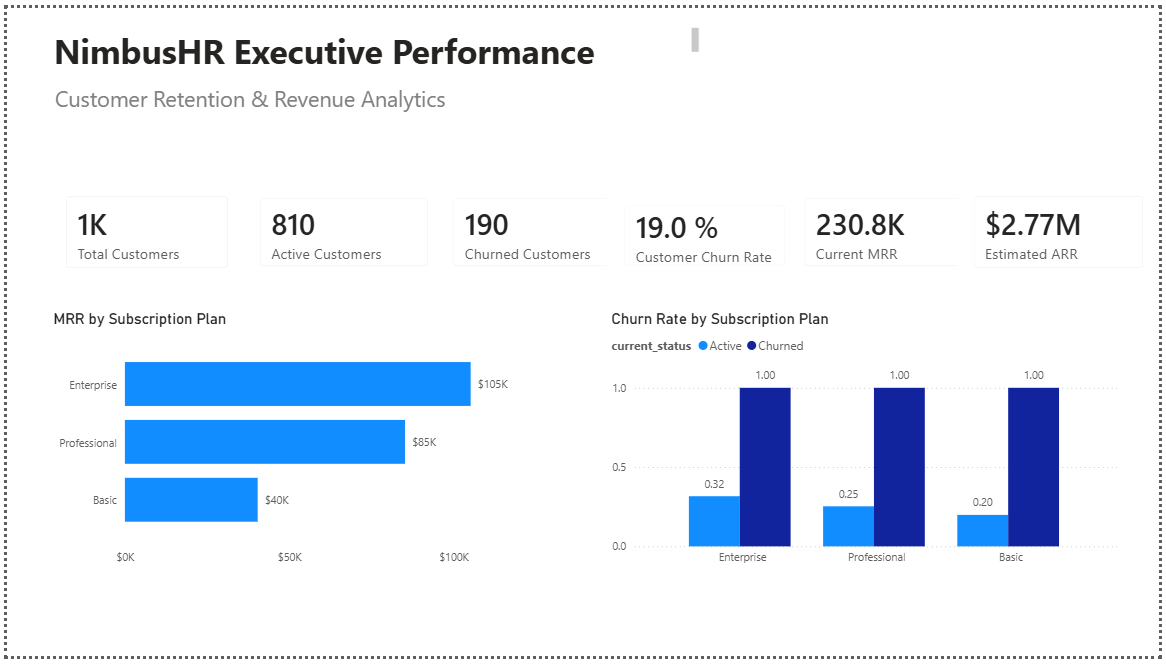

The page's visual inventory and layout, read from the dashboard file:
{"tool":"powerbi","page":{"name":"Executive Overview","canvas":[1280,720],"ordinal":0},"visuals":[{"type":"textbox","box":[47.1,17.1,727.1,61.4],"z":0},{"type":"textbox","box":[47.7,77.9,612.4,57.3],"z":1000},{"type":"cardVisual","fields":{"Data":["Measures (2).Total Customers"]},"box":[47.7,190.9,214.7,114.5],"z":2000},{"type":"cardVisual","fields":{"Data":["Measures (2).Active Customers"]},"box":[262.5,190.9,225.9,114.5],"z":3000},{"type":"cardVisual","fields":{"Data":["Measures (2).Churned Customers"]},"box":[477.1,191.4,227.1,114.3],"z":4000},{"type":"cardVisual","fields":{"Data":["Measures (2).Current MRR"]},"box":[867.1,191.4,214.3,114.3],"z":5000},{"type":"cardVisual","fields":{"Data":["Measures (2).Estimated ARR"]},"box":[1057.1,191.4,222.9,114.3],"z":6000},{"type":"cardVisual","fields":{"Data":["Measures (2).Customer Churn Rate"]},"box":[667.1,200,217.1,105.7],"z":7000},{"type":"clusteredBarChart","title":"MRR by Subscription Plan","fields":{"Category":["subscriptions_clean.subscription_plan"],"Y":["Measures (2).Current MRR"]},"box":[47.1,335.7,544.3,292.9],"z":8000},{"type":"clusteredColumnChart","title":"Churn Rate by Subscription Plan","fields":{"Series":["subscriptions_clean.current_status"],"Y":["Measures (2).Plan Churn Rate"],"Category":["subscriptions_clean.subscription_plan"]},"box":[667.1,335.7,572.9,292.9],"z":9000}]}

Visuals, with their boxes in screenshot pixels (x1, y1, x2, y2), scaled from the page's 1280x720 canvas onto the 1166x664 screenshot:
textbox: [x1=43, y1=16, x2=705, y2=72]
textbox: [x1=43, y1=72, x2=601, y2=125]
cardVisual - Measures (2).Total Customers: [x1=43, y1=176, x2=239, y2=282]
cardVisual - Measures (2).Active Customers: [x1=239, y1=176, x2=445, y2=282]
cardVisual - Measures (2).Churned Customers: [x1=435, y1=177, x2=641, y2=282]
cardVisual - Measures (2).Current MRR: [x1=790, y1=177, x2=985, y2=282]
cardVisual - Measures (2).Estimated ARR: [x1=963, y1=177, x2=1165, y2=282]
cardVisual - Measures (2).Customer Churn Rate: [x1=608, y1=184, x2=805, y2=282]
"MRR by Subscription Plan" clusteredBarChart: [x1=43, y1=310, x2=539, y2=580]
"Churn Rate by Subscription Plan" clusteredColumnChart: [x1=608, y1=310, x2=1130, y2=580]
